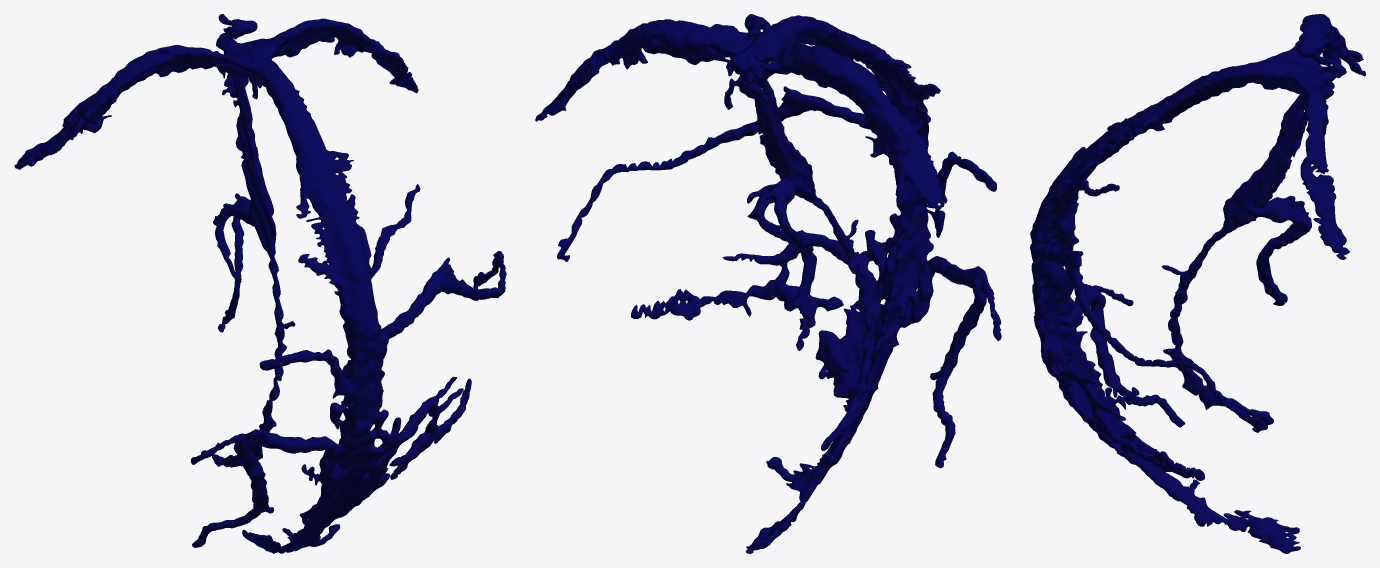
The model's file is Venous_sinus.obj.
3 views of the same model, side by side, from view 1: azimuth 30°, elevation 25°; view 2: azimuth 150°, elevation 25°; view 3: azimuth 270°, elevation 25° (orthographic). The views are drawn at different scales.
Parts seen in each view (by area): view 1: grp1; view 2: grp1; view 3: grp1.
Boxes of the visible parts, x1=… form: grp1: x1=14, y1=14, x2=506, y2=553; grp1: x1=535, y1=14, x2=1001, y2=553; grp1: x1=1030, y1=14, x2=1365, y2=553.
Size of the model in its own units: 129 by 155 by 93.44.
